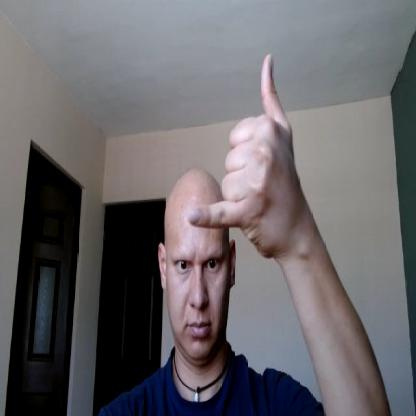Y: (188, 51, 297, 256)
